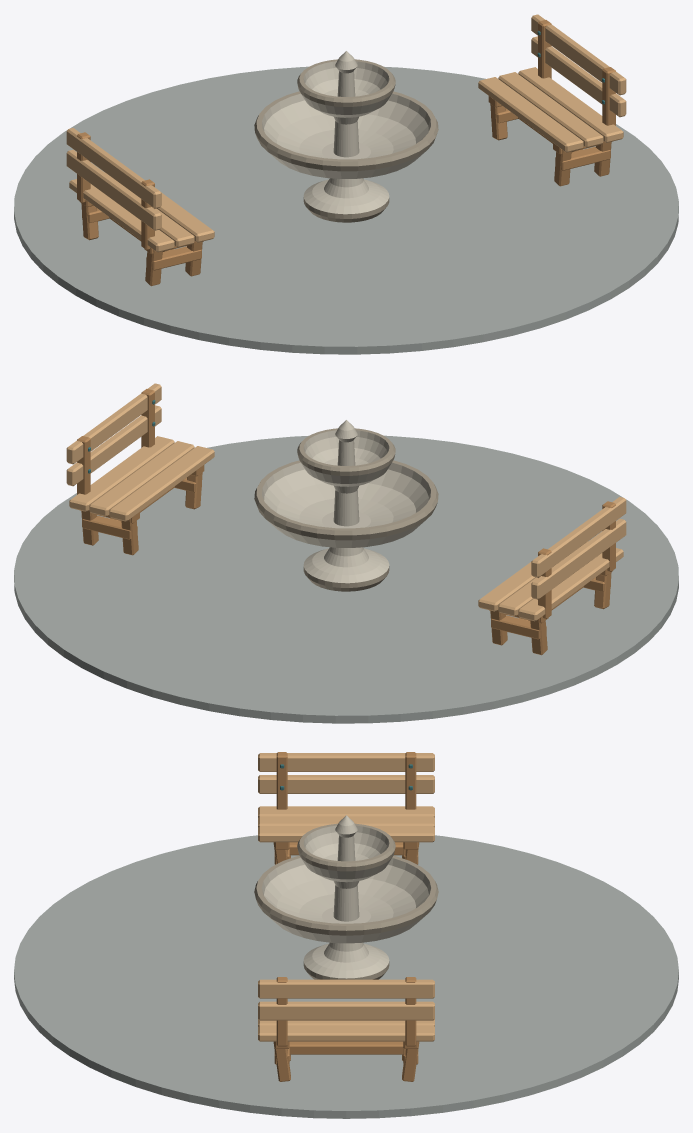
The picture shows the model from 3 angles, top to bottom: view 1: azimuth 30°, elevation 25°; view 2: azimuth 150°, elevation 25°; view 3: azimuth 270°, elevation 25°; orthographic projection.
Visible parts, largest first — view 1: SceneOnlyClosedCircularPaving, CenterFountain__ContinuousTwoTierDryFountain, EastBench__harbor-bench-01, WestBench__harbor-bench-01; view 2: SceneOnlyClosedCircularPaving, CenterFountain__ContinuousTwoTierDryFountain, EastBench__harbor-bench-01, WestBench__harbor-bench-01; view 3: SceneOnlyClosedCircularPaving, CenterFountain__ContinuousTwoTierDryFountain, EastBench__harbor-bench-01, WestBench__harbor-bench-01.
Part boxes in pixels (x1,y1,x2,y2): SceneOnlyClosedCircularPaving: [14, 66, 678, 354]; CenterFountain__ContinuousTwoTierDryFountain: [254, 51, 438, 222]; EastBench__harbor-bench-01: [478, 14, 626, 186]; WestBench__harbor-bench-01: [66, 128, 214, 286]; SceneOnlyClosedCircularPaving: [14, 435, 678, 723]; CenterFountain__ContinuousTwoTierDryFountain: [254, 420, 438, 591]; EastBench__harbor-bench-01: [66, 383, 214, 555]; WestBench__harbor-bench-01: [478, 497, 626, 655]; SceneOnlyClosedCircularPaving: [14, 835, 678, 1118]; CenterFountain__ContinuousTwoTierDryFountain: [254, 815, 438, 979]; EastBench__harbor-bench-01: [258, 977, 434, 1081]; WestBench__harbor-bench-01: [258, 752, 434, 864].
Bounding box in the file's own units: 6.2 × 1.68 × 6.2.
